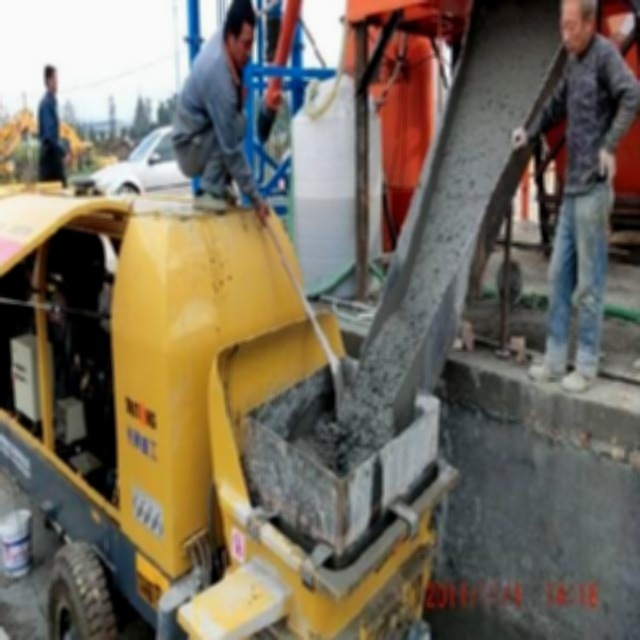Sin_Casco_Mascarrilla: (224, 0, 258, 69)
